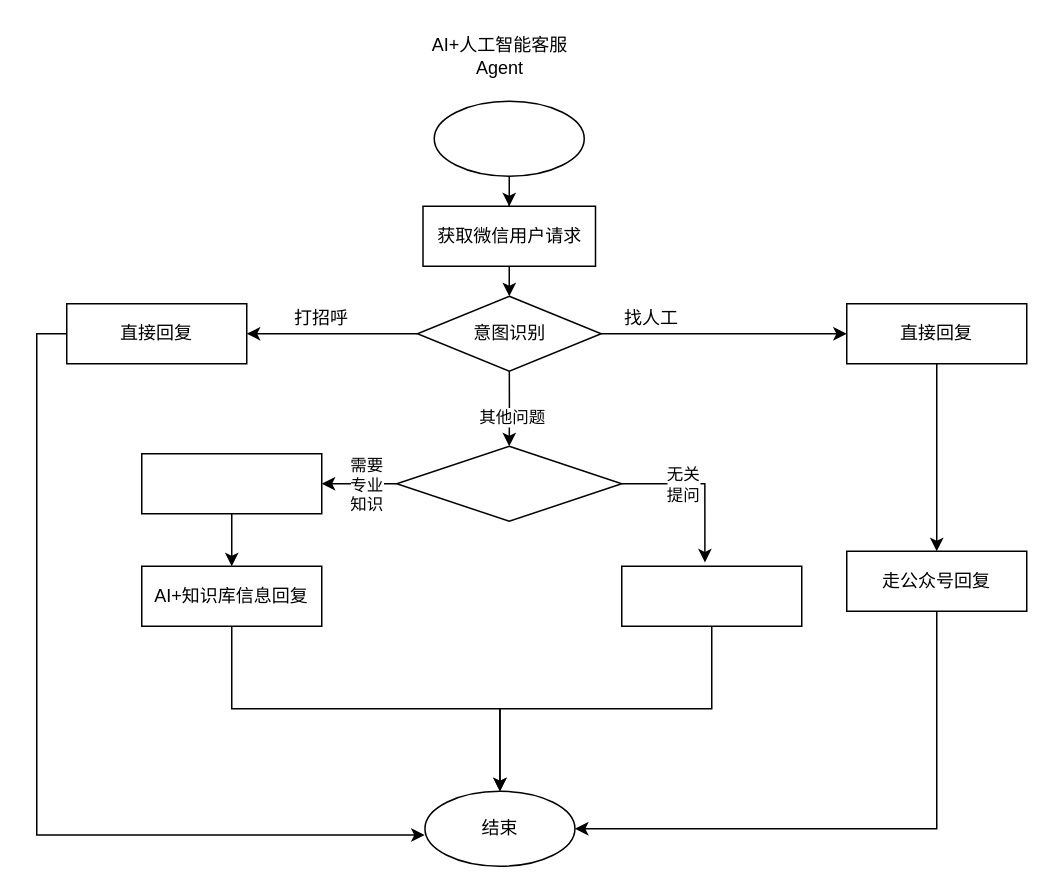
Image size: 1053x893. Some labels were removed from this diagram. Each missing label, with the centre of its shape:
开始: the point at 508,138
是否进入知识库检索: the point at 508,483
检索上下文: the point at 231,483
直接闲聊AI回复: the point at 711,595
